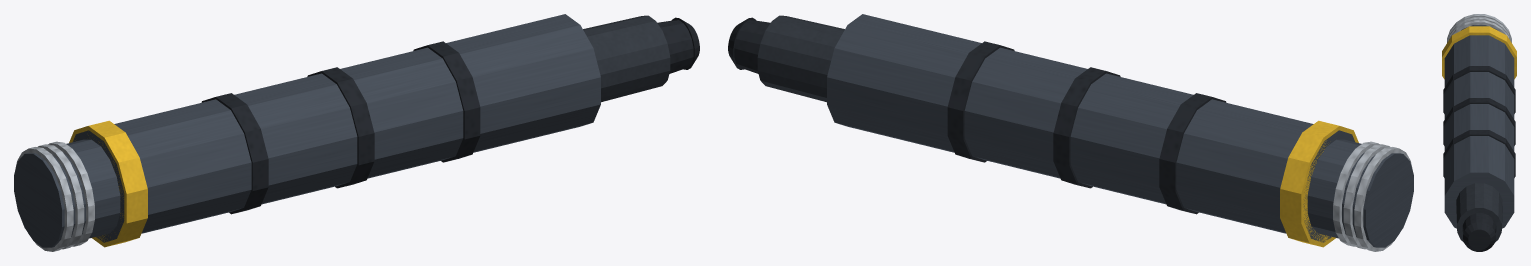
Rendered from barrel_shrouded_v2.glb.
The picture shows the model from 3 angles, left to right: view 1: azimuth 30°, elevation 25°; view 2: azimuth 150°, elevation 25°; view 3: azimuth 270°, elevation 25°; orthographic projection. The views are drawn at different scales.
Parts seen in each view (by area): view 1: barrel_shrouded_mesh; view 2: barrel_shrouded_mesh; view 3: barrel_shrouded_mesh.
Boxes of the visible parts, x1,y1,x2,y2 form: barrel_shrouded_mesh: (14, 14, 699, 251); barrel_shrouded_mesh: (728, 14, 1413, 251); barrel_shrouded_mesh: (1442, 14, 1516, 251).
Size of the model in its own units: 0.2465 by 0.0396 by 0.0396.
Materials: 6 (6 with a texture image).
